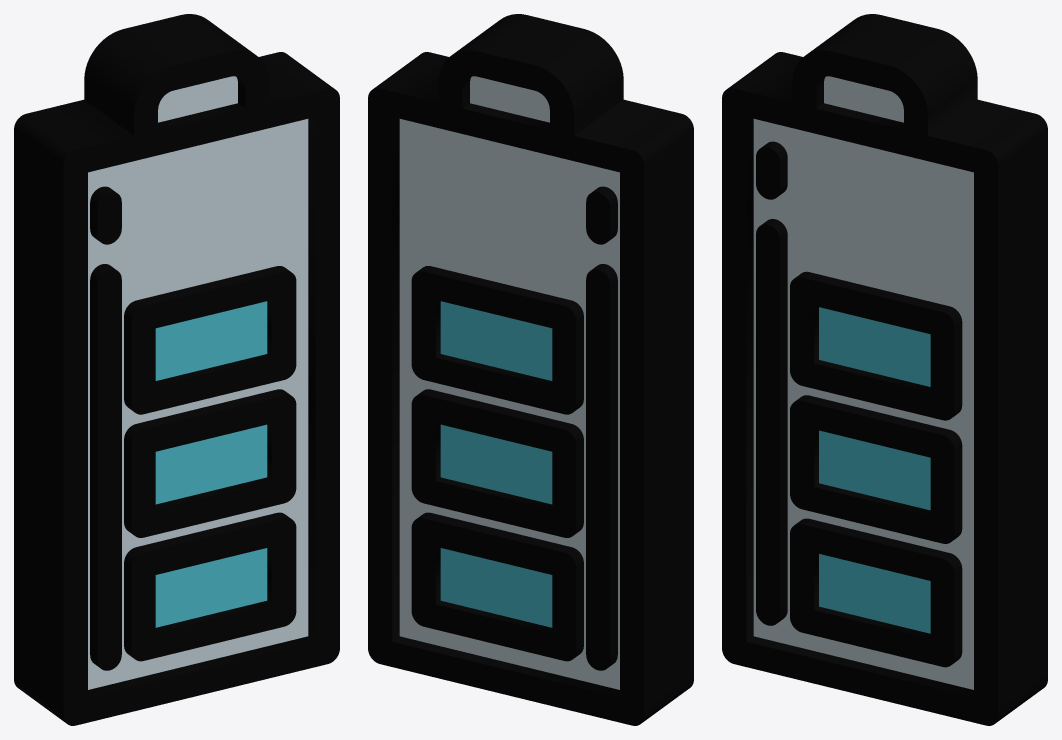
Rendered from Battery.fbx.
The picture shows the model from 3 angles, left to right: view 1: azimuth 30°, elevation 25°; view 2: azimuth 150°, elevation 25°; view 3: azimuth 330°, elevation 25°; orthographic projection.
Parts seen in each view (by area): view 1: Curve.002, Curve, Curve.004, Curve.006, Curve.008, Curve.009, Curve.003, Curve.007, Curve.005, Curve.001, Curve.010; view 2: Curve.002, Curve, Curve.004, Curve.006, Curve.008, Curve.009, Curve.003, Curve.007, Curve.005, Curve.001, Curve.010; view 3: Curve.002, Curve, Curve.006, Curve.004, Curve.008, Curve.009, Curve.005, Curve.003, Curve.007, Curve.001, Curve.010.
Boxes of the visible parts, x1,y1,x2,y2 form: Curve.002: (14, 14, 339, 725); Curve: (88, 119, 308, 689); Curve.004: (124, 512, 296, 661); Curve.006: (124, 389, 296, 537); Curve.008: (124, 266, 296, 414); Curve.009: (90, 264, 121, 670); Curve.003: (155, 548, 267, 627); Curve.007: (155, 301, 267, 380); Curve.005: (155, 424, 267, 504); Curve.001: (158, 76, 237, 122); Curve.010: (90, 186, 121, 244); Curve.002: (368, 14, 693, 725); Curve: (399, 119, 619, 689); Curve.004: (411, 512, 583, 661); Curve.006: (411, 389, 583, 537); Curve.008: (411, 266, 583, 414); Curve.009: (586, 264, 617, 670); Curve.003: (440, 548, 552, 627); Curve.007: (440, 301, 552, 380); Curve.005: (440, 424, 552, 504); Curve.001: (470, 76, 549, 122); Curve.010: (586, 186, 617, 244); Curve.002: (722, 14, 1047, 725); Curve: (753, 119, 973, 689); Curve.006: (790, 395, 962, 543); Curve.004: (790, 518, 962, 667); Curve.008: (790, 271, 962, 420); Curve.009: (756, 219, 787, 625); Curve.005: (819, 430, 930, 510); Curve.003: (819, 554, 930, 633); Curve.007: (819, 307, 930, 386); Curve.001: (824, 76, 903, 122); Curve.010: (756, 141, 787, 199).
Bounding box in the file's own units: 64.34 × 142 × 20.
